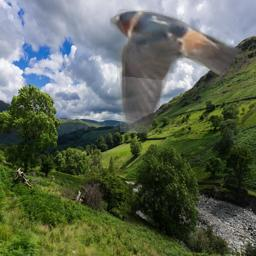Swallow: (110, 5, 244, 133)
